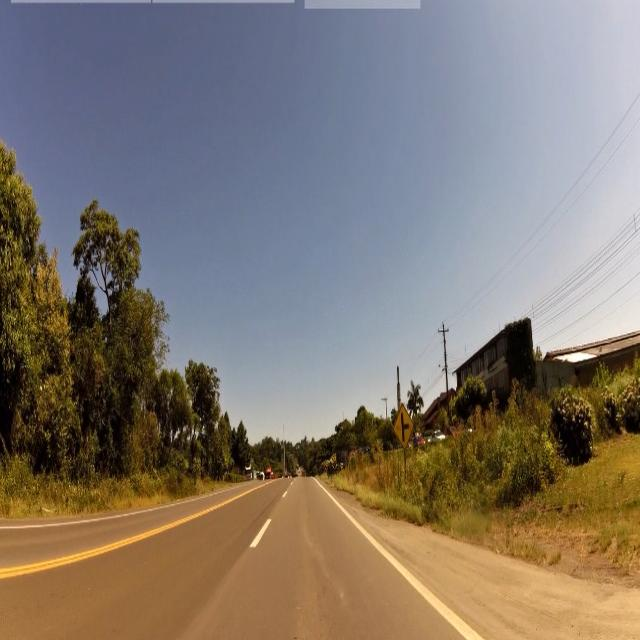A-7b: (394, 400, 413, 450)
